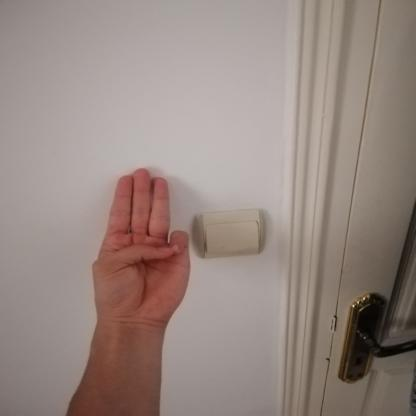THA: (74, 156, 212, 332)
